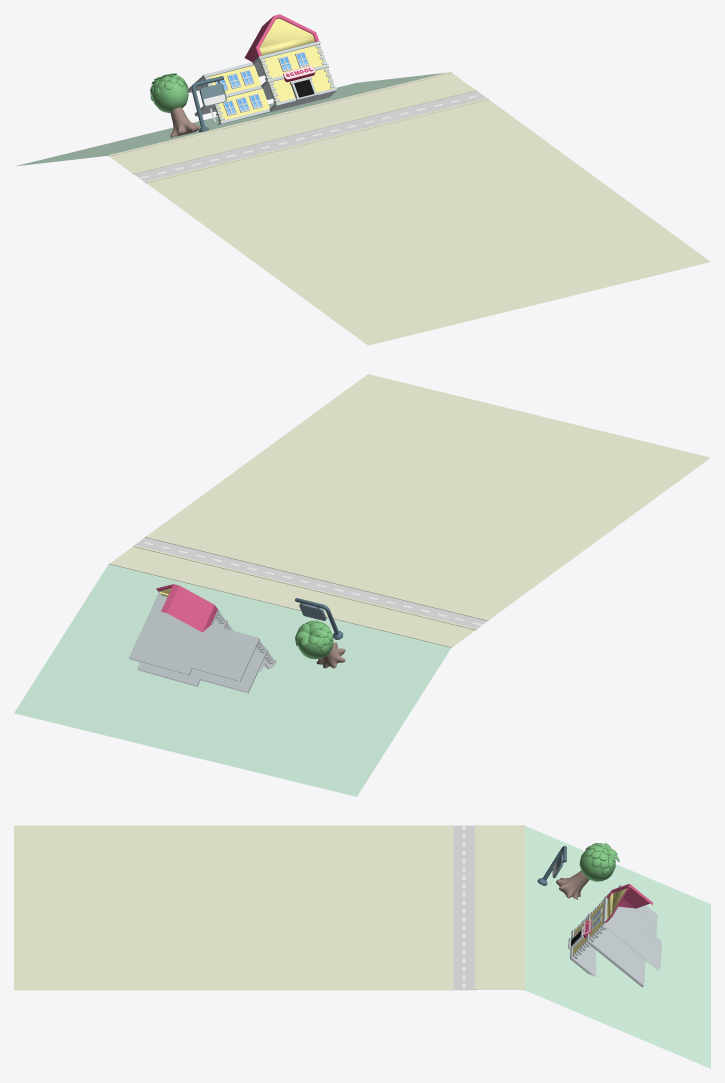
File: School_map.fbx
3 renders of one model, top to bottom at view 1: azimuth 30°, elevation 25°; view 2: azimuth 150°, elevation 25°; view 3: azimuth 270°, elevation 25°, orthographic.
Parts seen in each view (by area): view 1: 02_CarPlane.006, 02_Parking.006, polySurface322, 02_Road.005, 02_Plane.007, _gltfNode_956, 02_Street Light.002; view 2: 02_CarPlane.006, 02_Plane.007, polySurface322, 02_Parking.006, 02_Road.005, _gltfNode_956, 02_Street Light.002; view 3: 02_CarPlane.006, 02_Plane.007, 02_Parking.006, polySurface322, 02_Road.005, _gltfNode_956, 02_Street Light.002.
Part boxes in pixels (x1,y1,x2,y2): 02_CarPlane.006: (145, 98, 710, 345); 02_Parking.006: (108, 71, 476, 174); polySurface322: (187, 14, 337, 124); 02_Road.005: (134, 90, 486, 181); 02_Plane.007: (15, 72, 445, 166); _gltfNode_956: (150, 73, 199, 137); 02_Street Light.002: (191, 76, 226, 132); 02_CarPlane.006: (145, 374, 710, 620); 02_Plane.007: (14, 564, 450, 796); polySurface322: (129, 584, 276, 693); 02_Parking.006: (109, 545, 476, 647); 02_Road.005: (135, 537, 487, 628); _gltfNode_956: (295, 620, 345, 668); 02_Street Light.002: (295, 598, 343, 639); 02_CarPlane.006: (14, 825, 453, 990); 02_Plane.007: (524, 826, 710, 1068); 02_Parking.006: (475, 825, 524, 989); polySurface322: (568, 884, 661, 987); 02_Road.005: (453, 825, 474, 990); _gltfNode_956: (556, 843, 619, 899); 02_Street Light.002: (537, 846, 566, 885).
Bounding box in the file's own units: 4005 × 1423 × 7156.
